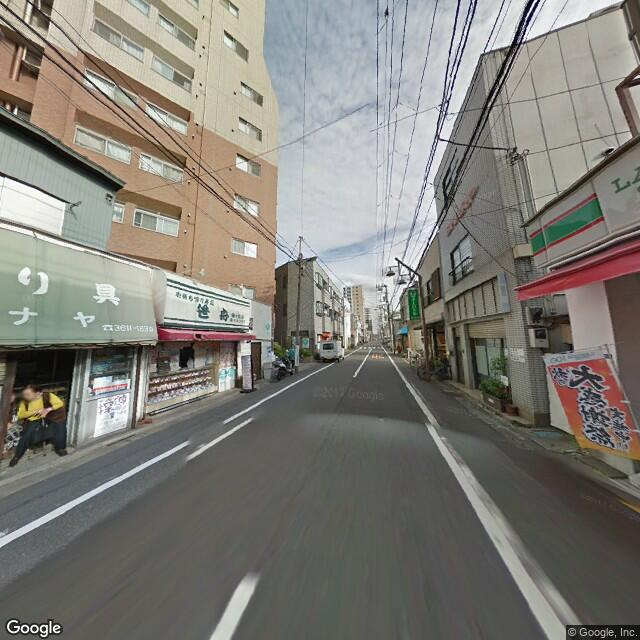lawson: (528, 138, 639, 276)
